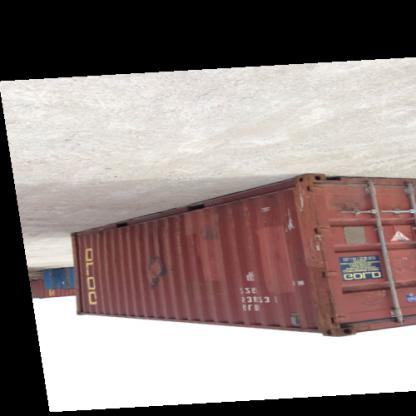Damage: (133, 216, 189, 242), (140, 256, 170, 294), (280, 207, 297, 242), (202, 224, 222, 246), (240, 268, 258, 292), (310, 235, 324, 264), (289, 274, 308, 294), (298, 186, 308, 212), (256, 206, 272, 221)
